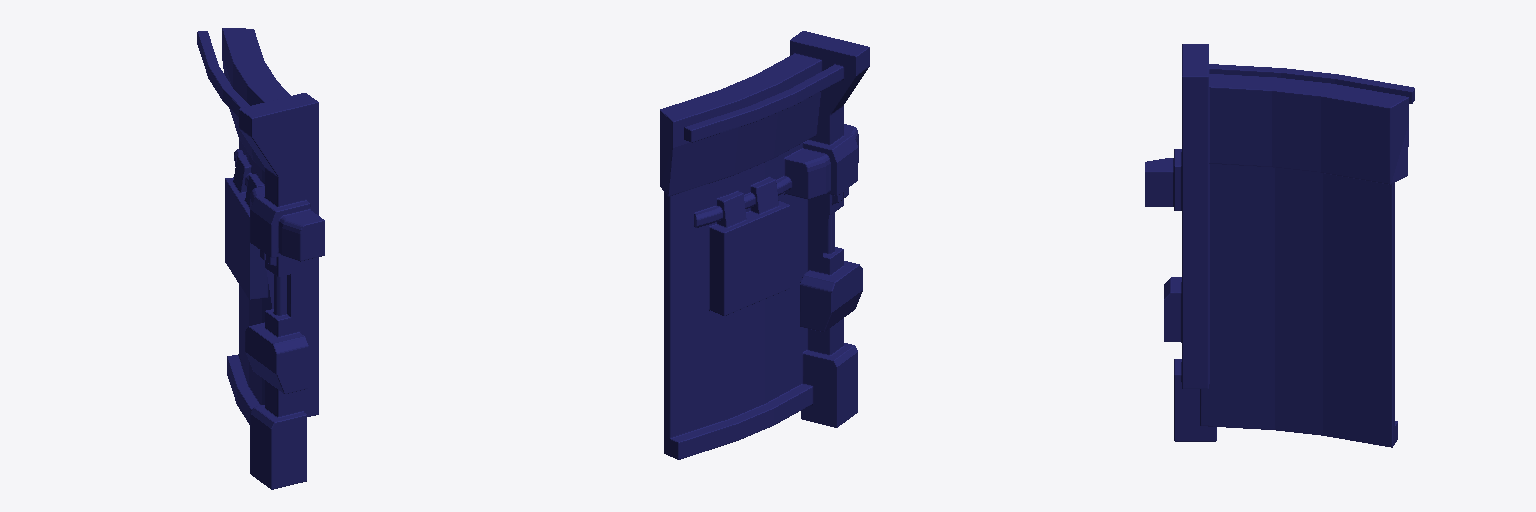
The model's file is inner_wall.obj.
3 renders of one model, left to right at view 1: azimuth 30°, elevation 25°; view 2: azimuth 150°, elevation 25°; view 3: azimuth 270°, elevation 25°, orthographic.
Parts seen in each view (by area): view 1: InnerWall_Cube.029; view 2: InnerWall_Cube.029; view 3: InnerWall_Cube.029.
Boxes of the visible parts, <box> form: InnerWall_Cube.029: <box>197,28,324,489</box>; InnerWall_Cube.029: <box>660,31,869,459</box>; InnerWall_Cube.029: <box>1145,44,1414,447</box>.
Size of the model in its own units: 9.1 by 30.51 by 20.07.